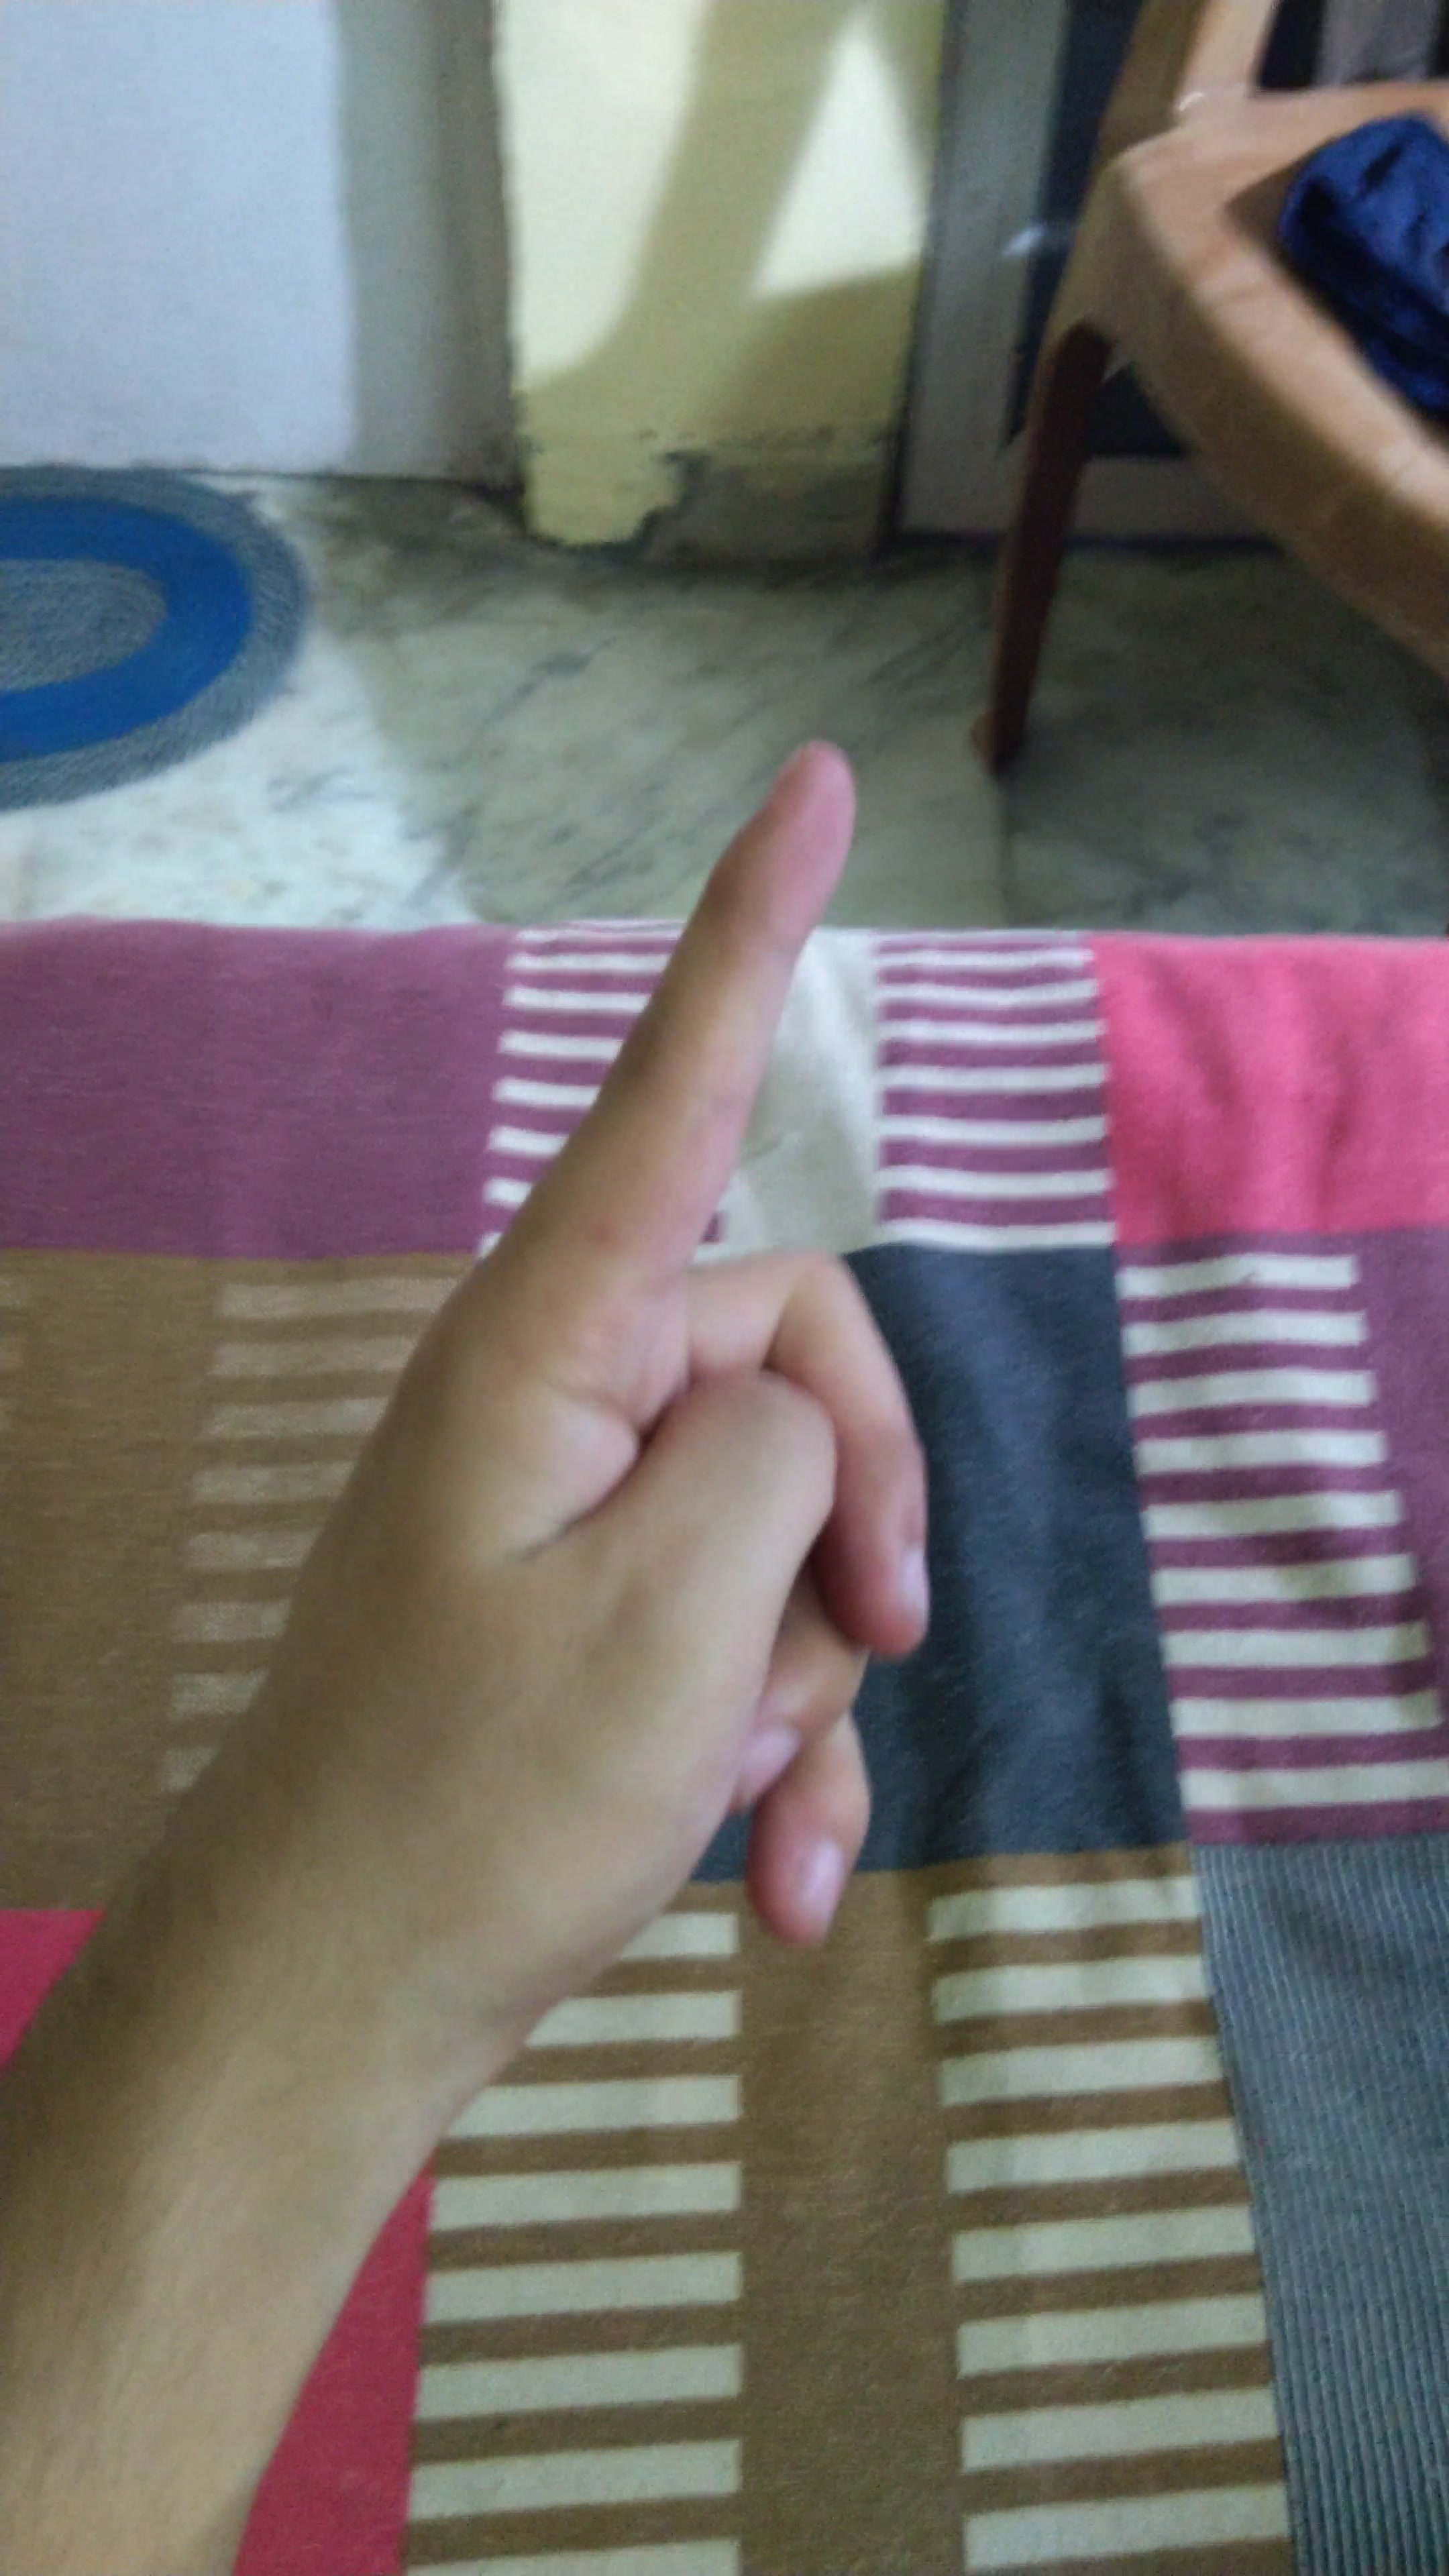hand: (170, 695, 1116, 2043)
